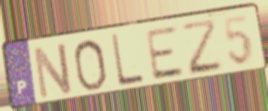5: (222, 15, 256, 68)
E: (143, 24, 186, 83)
L: (109, 32, 146, 90)
N: (32, 41, 74, 102)
O: (72, 37, 109, 93)
Z: (179, 16, 226, 78)
